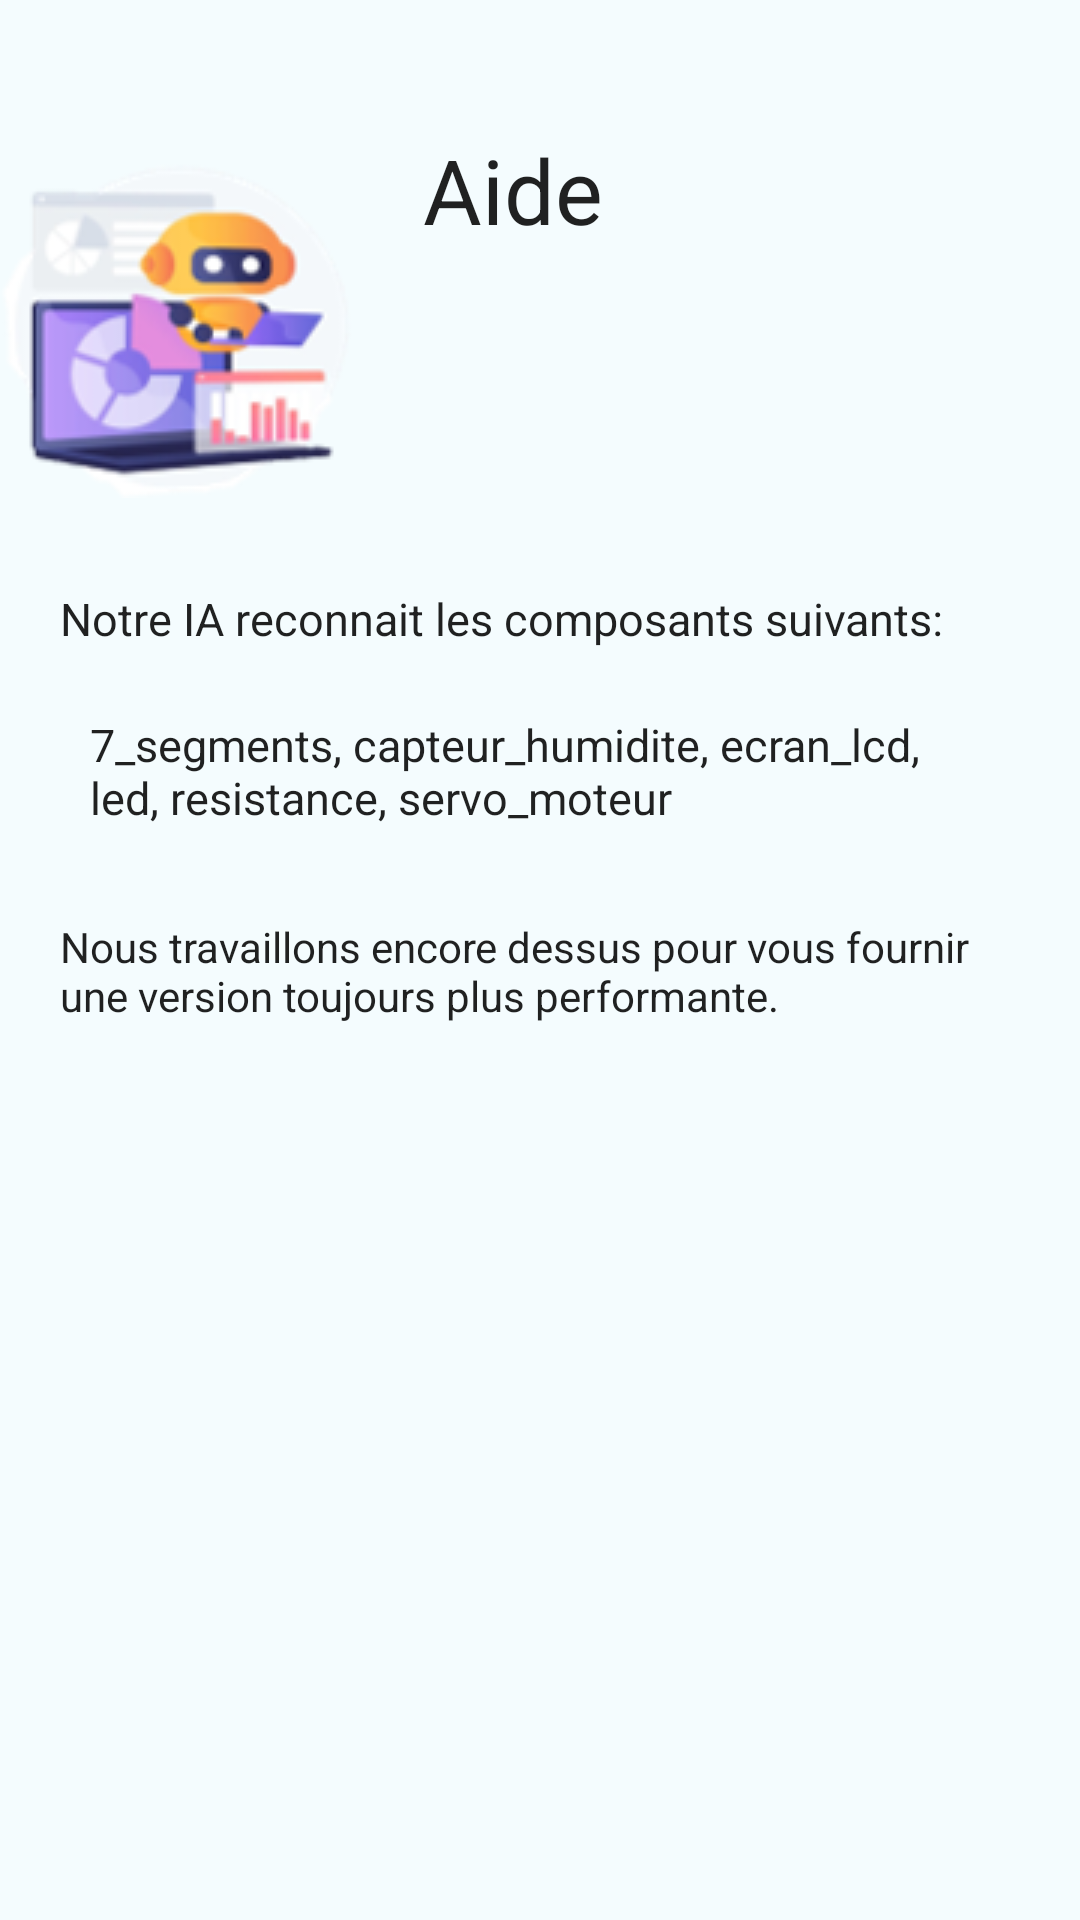

Named icons in this screenshot (1080w x 1920h) and their centers, [x,y]:
ia help: [181,334]
